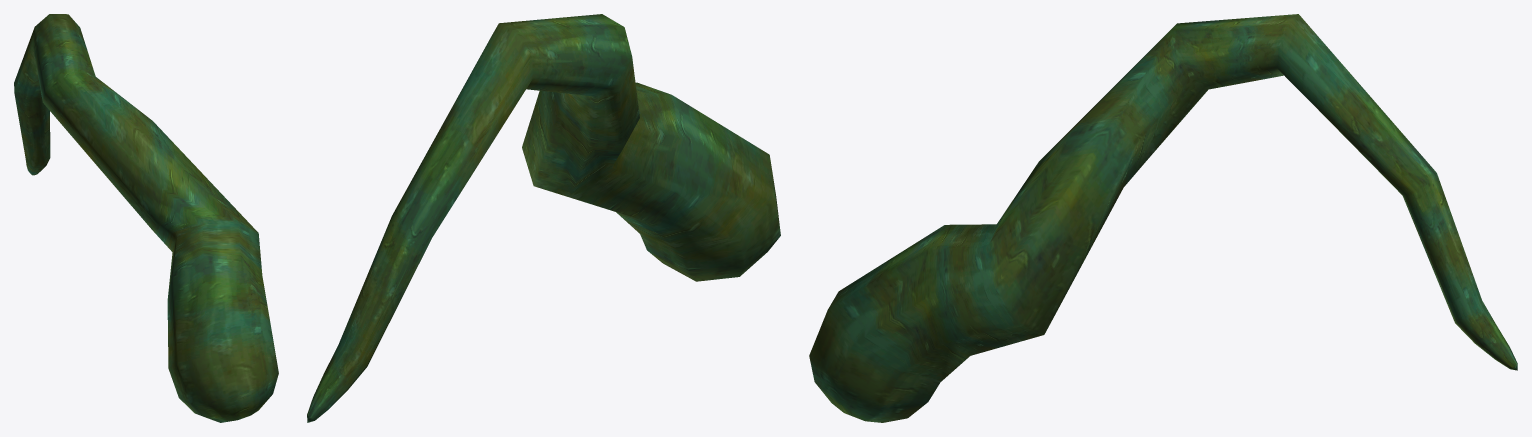
Rendered from MIRKWOOD_SB_PLAY09.fbx.
3 views of the same model, side by side, from view 1: azimuth 30°, elevation 25°; view 2: azimuth 150°, elevation 25°; view 3: azimuth 270°, elevation 25° (orthographic). The views are drawn at different scales.
Parts seen in each view (by area): view 1: MIRKWOOD_SB_PLAY09; view 2: MIRKWOOD_SB_PLAY09; view 3: MIRKWOOD_SB_PLAY09.
Part boxes in pixels (<box>): MIRKWOOD_SB_PLAY09: <box>14,14,278,422</box>; MIRKWOOD_SB_PLAY09: <box>307,14,780,422</box>; MIRKWOOD_SB_PLAY09: <box>809,14,1517,422</box>.
Size of the model in its own units: 45150 by 88228 by 145019.
1 material, 1 textured.
